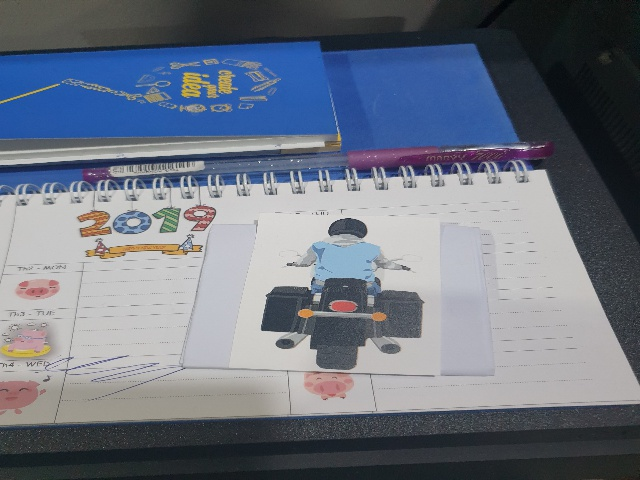Motorcycle: (262, 217, 424, 369)
